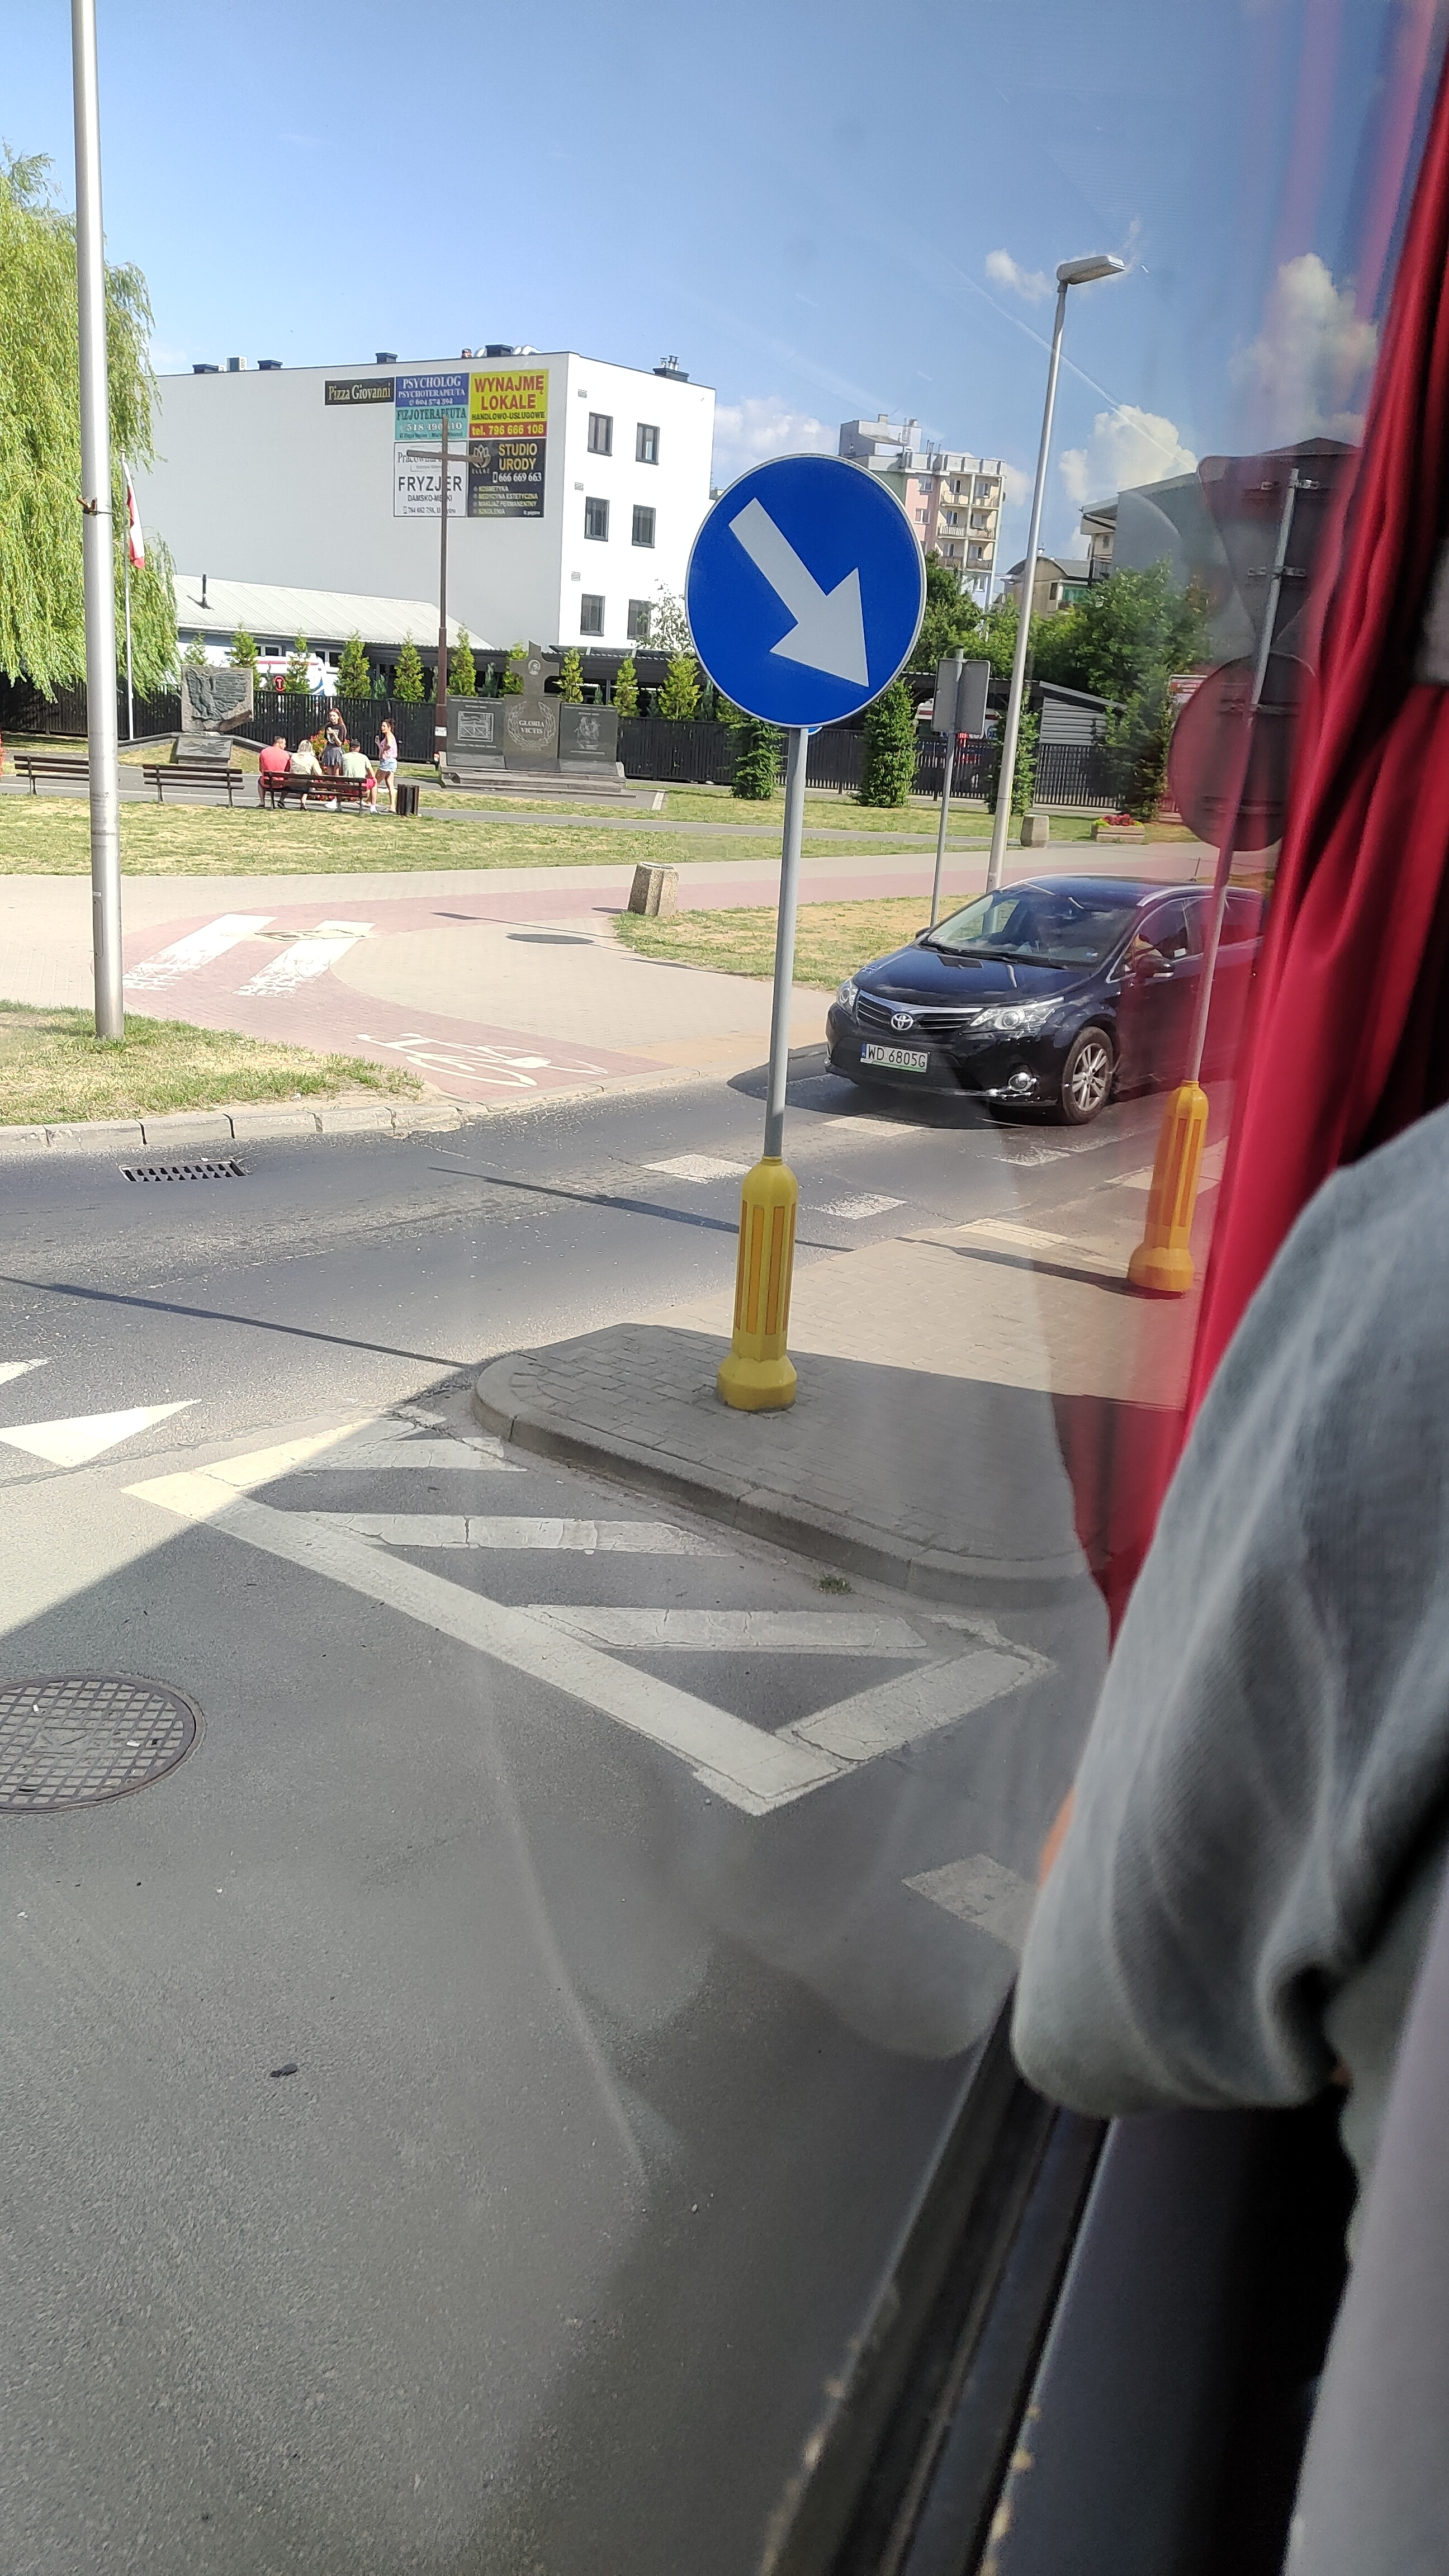number_plate: (860, 1042, 929, 1074)
